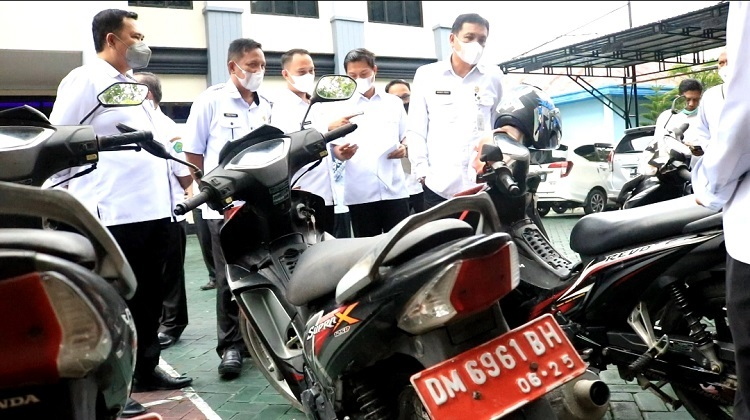plate: (414, 319, 578, 407)
